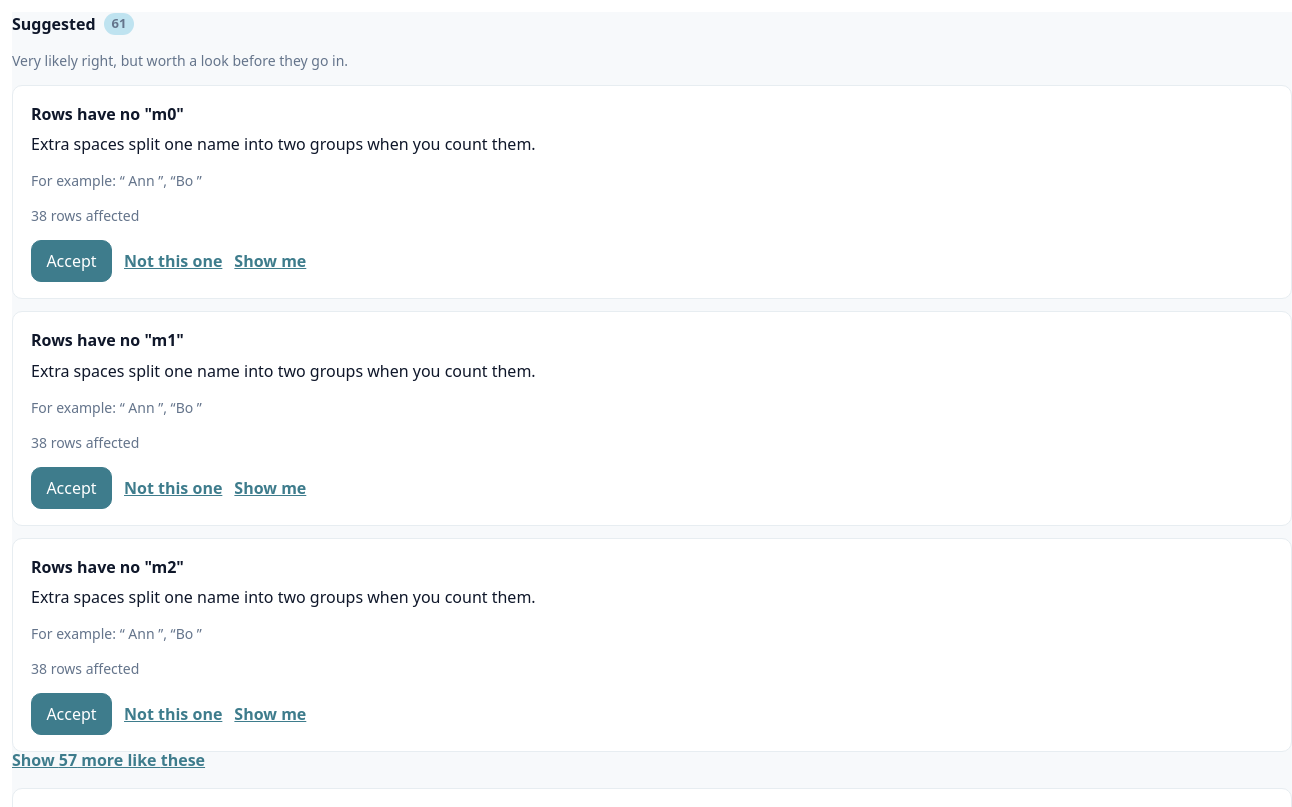
Test: IssueList › shows a few cards of one kind and folds the rest away
Click the button "Show 57 more like these" at (109, 760), box [12,748,205,772]
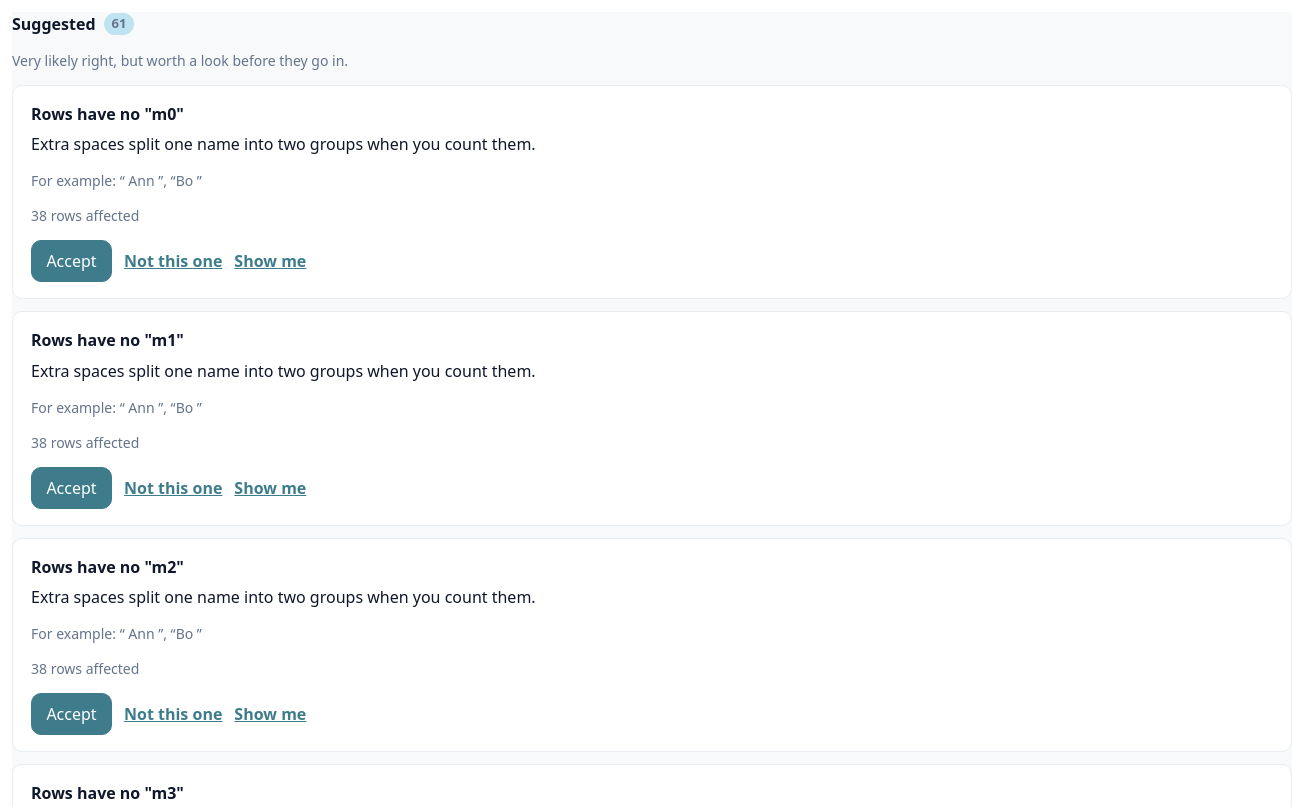
Check: the button "more like" is gone
